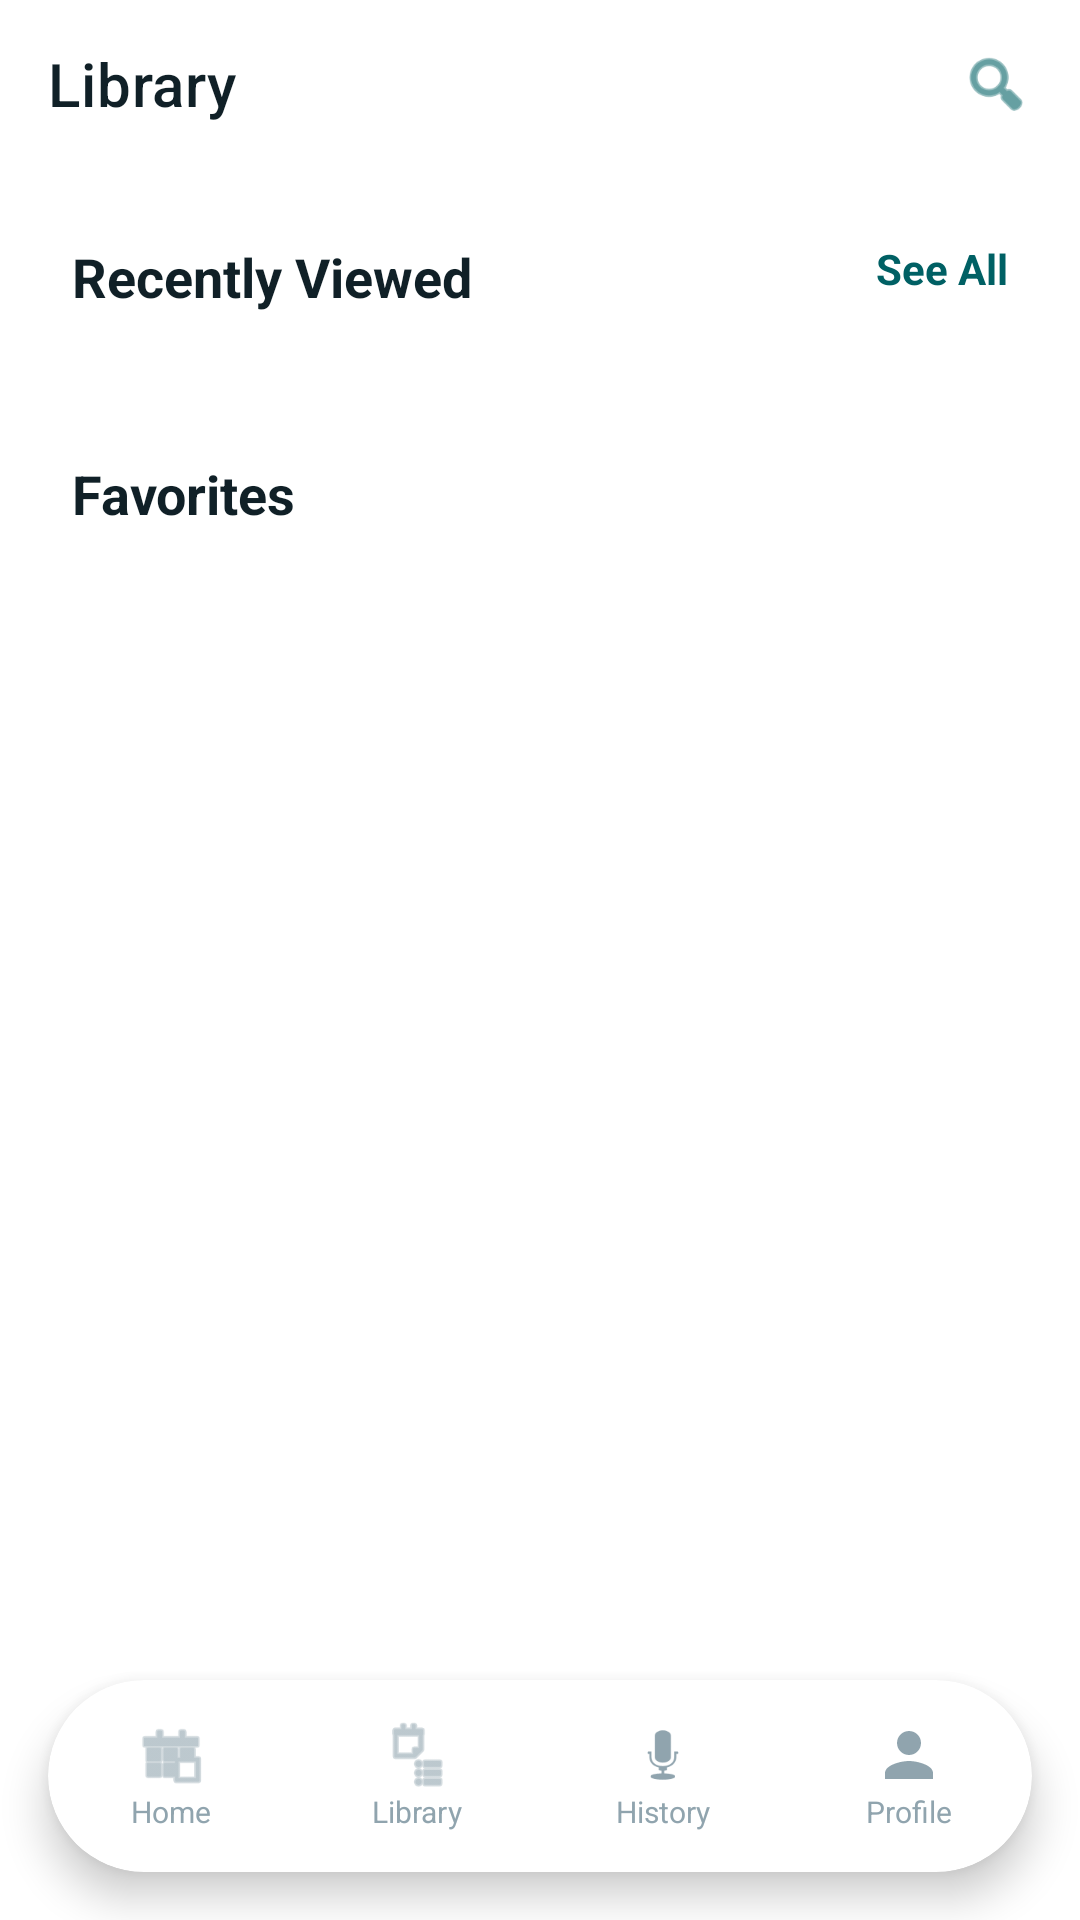

Icons on this 1080*1920 Android screen, each with the point to tap as (x=x, y=y):
agenda: (x=417, y=1754)
speak now: (x=663, y=1755)
today: (x=171, y=1756)
